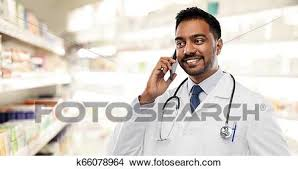Indian_Male: (173, 22, 225, 84)
